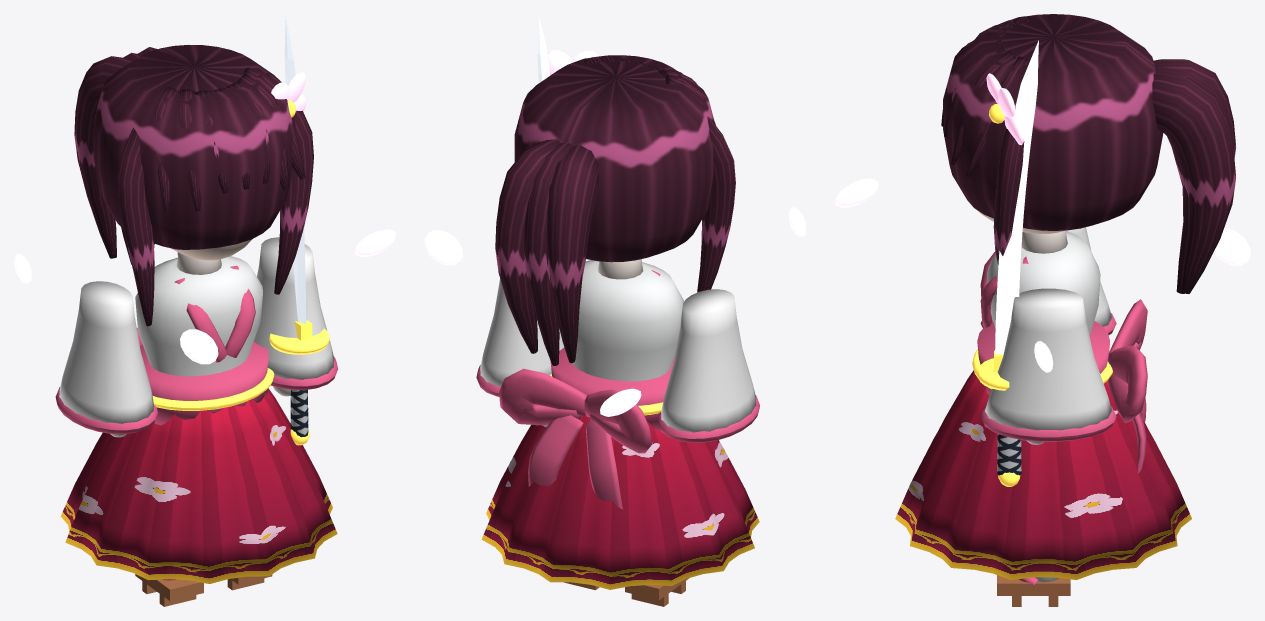
Rendered from hero_sakura.glb.
3 views of the same model, side by side, from view 1: azimuth 30°, elevation 25°; view 2: azimuth 150°, elevation 25°; view 3: azimuth 270°, elevation 25° (orthographic). The views are drawn at different scales.
Visible parts, largest first — view 1: TorsoMesh, HairMesh, ArmMesh (×2), WeaponHilt, SakuraOrbitMesh, WeaponBlade, LegMesh, Headgear, HeadMesh; view 2: TorsoMesh, HairMesh, ArmMesh (×2), SakuraOrbitMesh, LegMesh, Headgear, WeaponBlade; view 3: HairMesh, TorsoMesh, ArmMesh (×2), WeaponBlade, SakuraOrbitMesh, WeaponHilt, LegMesh, Headgear.
Part boxes in pixels (x1,y1,x2,y2): TorsoMesh: (61, 252, 337, 583); HairMesh: (74, 44, 313, 326); ArmMesh (×2): (55, 237, 337, 437); WeaponHilt: (269, 320, 329, 445); SakuraOrbitMesh: (14, 229, 395, 364); WeaponBlade: (284, 14, 306, 324); LegMesh: (135, 574, 203, 606); Headgear: (271, 72, 306, 117); HeadMesh: (171, 239, 252, 260); TorsoMesh: (481, 259, 759, 589); HairMesh: (495, 55, 735, 365); ArmMesh (×2): (476, 278, 759, 442); SakuraOrbitMesh: (424, 207, 806, 416); LegMesh: (625, 578, 689, 606); Headgear: (537, 50, 598, 84); WeaponBlade: (537, 14, 549, 82); HairMesh: (941, 14, 1236, 293); TorsoMesh: (895, 230, 1191, 579); ArmMesh (×2): (980, 227, 1116, 444); WeaponBlade: (995, 40, 1038, 354); SakuraOrbitMesh: (835, 178, 1250, 372); WeaponHilt: (977, 350, 1021, 486); LegMesh: (997, 575, 1070, 606); Headgear: (986, 73, 1024, 145).
Size of the model in its own units: 1.63 by 2.63 by 1.7.
13 materials, 4 textured.
